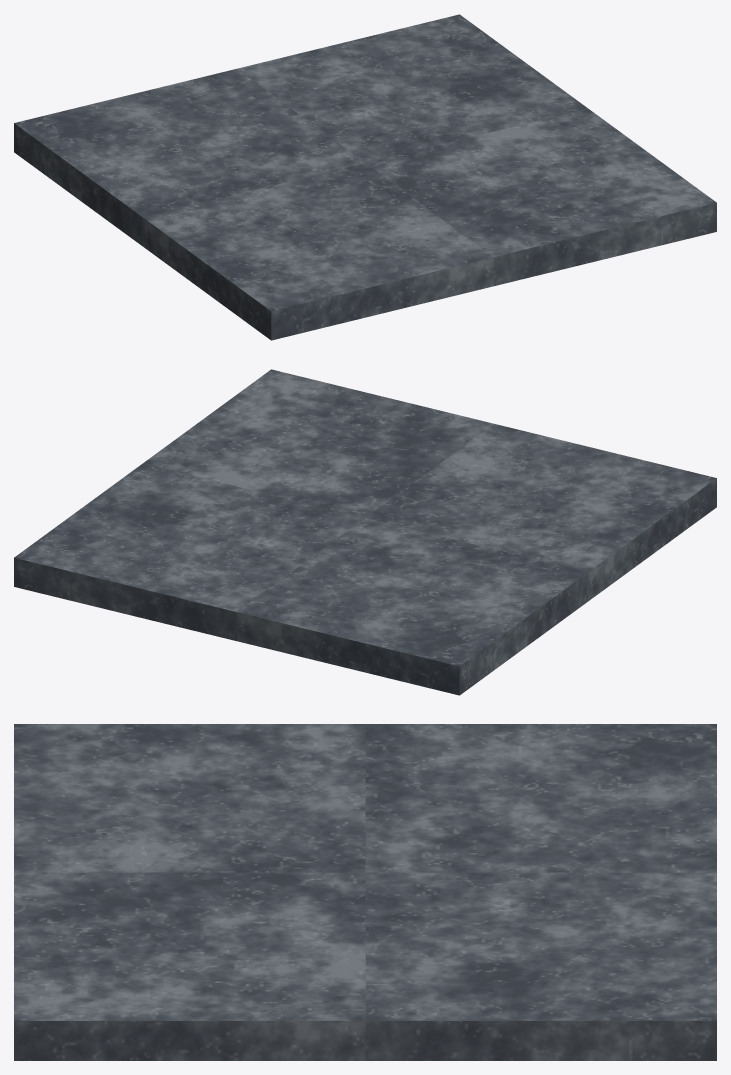
The model's file is wall_top.glb.
3 renders of one model, top to bottom at view 1: azimuth 30°, elevation 25°; view 2: azimuth 150°, elevation 25°; view 3: azimuth 270°, elevation 25°, orthographic. The views are drawn at different scales.
Visible parts, largest first — view 1: crypt_wall_top; view 2: crypt_wall_top; view 3: crypt_wall_top.
Part boxes in pixels (x1,y1,x2,y2): crypt_wall_top: [14, 14, 716, 340]; crypt_wall_top: [14, 369, 716, 695]; crypt_wall_top: [14, 724, 716, 1060].
Size of the model in its own units: 1 by 0.0625 by 1.
Materials: 1 (1 with a texture image).
